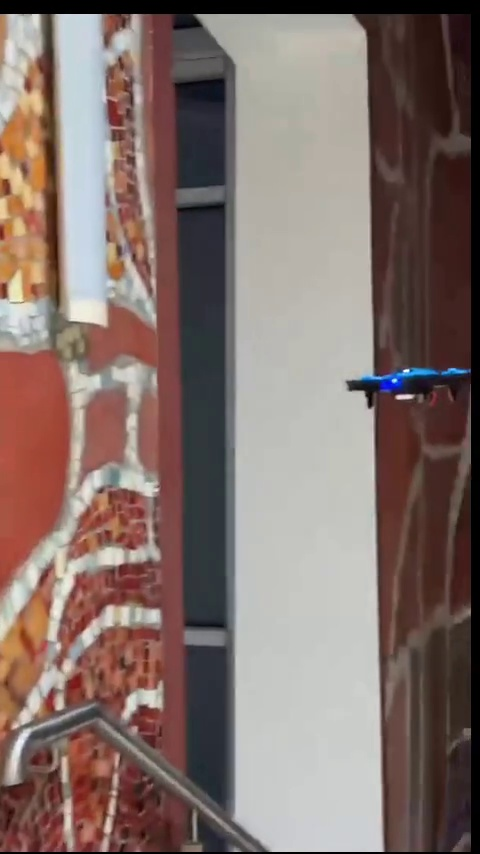drone: (345, 369, 478, 400)
